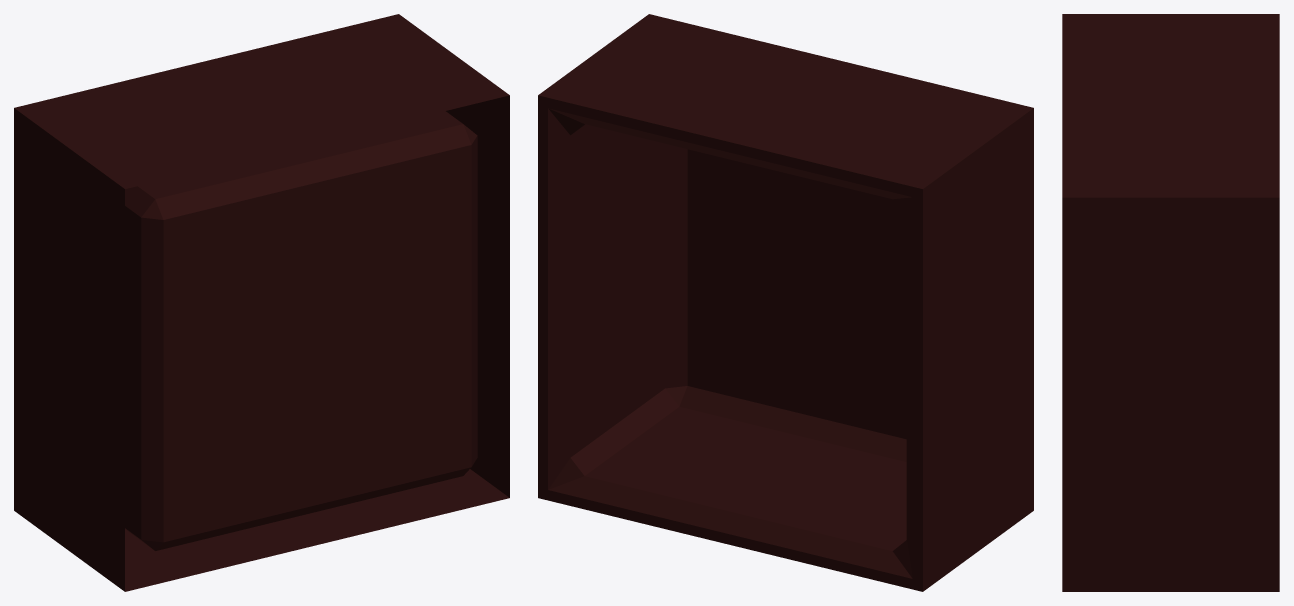
The model's file is level00.dae.
3 renders of one model, left to right at view 1: azimuth 30°, elevation 25°; view 2: azimuth 150°, elevation 25°; view 3: azimuth 270°, elevation 25°, orthographic. The views are drawn at different scales.
Visible parts, largest first — view 1: Plane; view 2: Plane; view 3: Plane.
Boxes of the visible parts, bbox=[...] form: Plane: bbox=[14, 14, 509, 591]; Plane: bbox=[538, 14, 1033, 591]; Plane: bbox=[1062, 14, 1279, 591].
Bounding box in the file's own units: 2 × 1 × 2.
